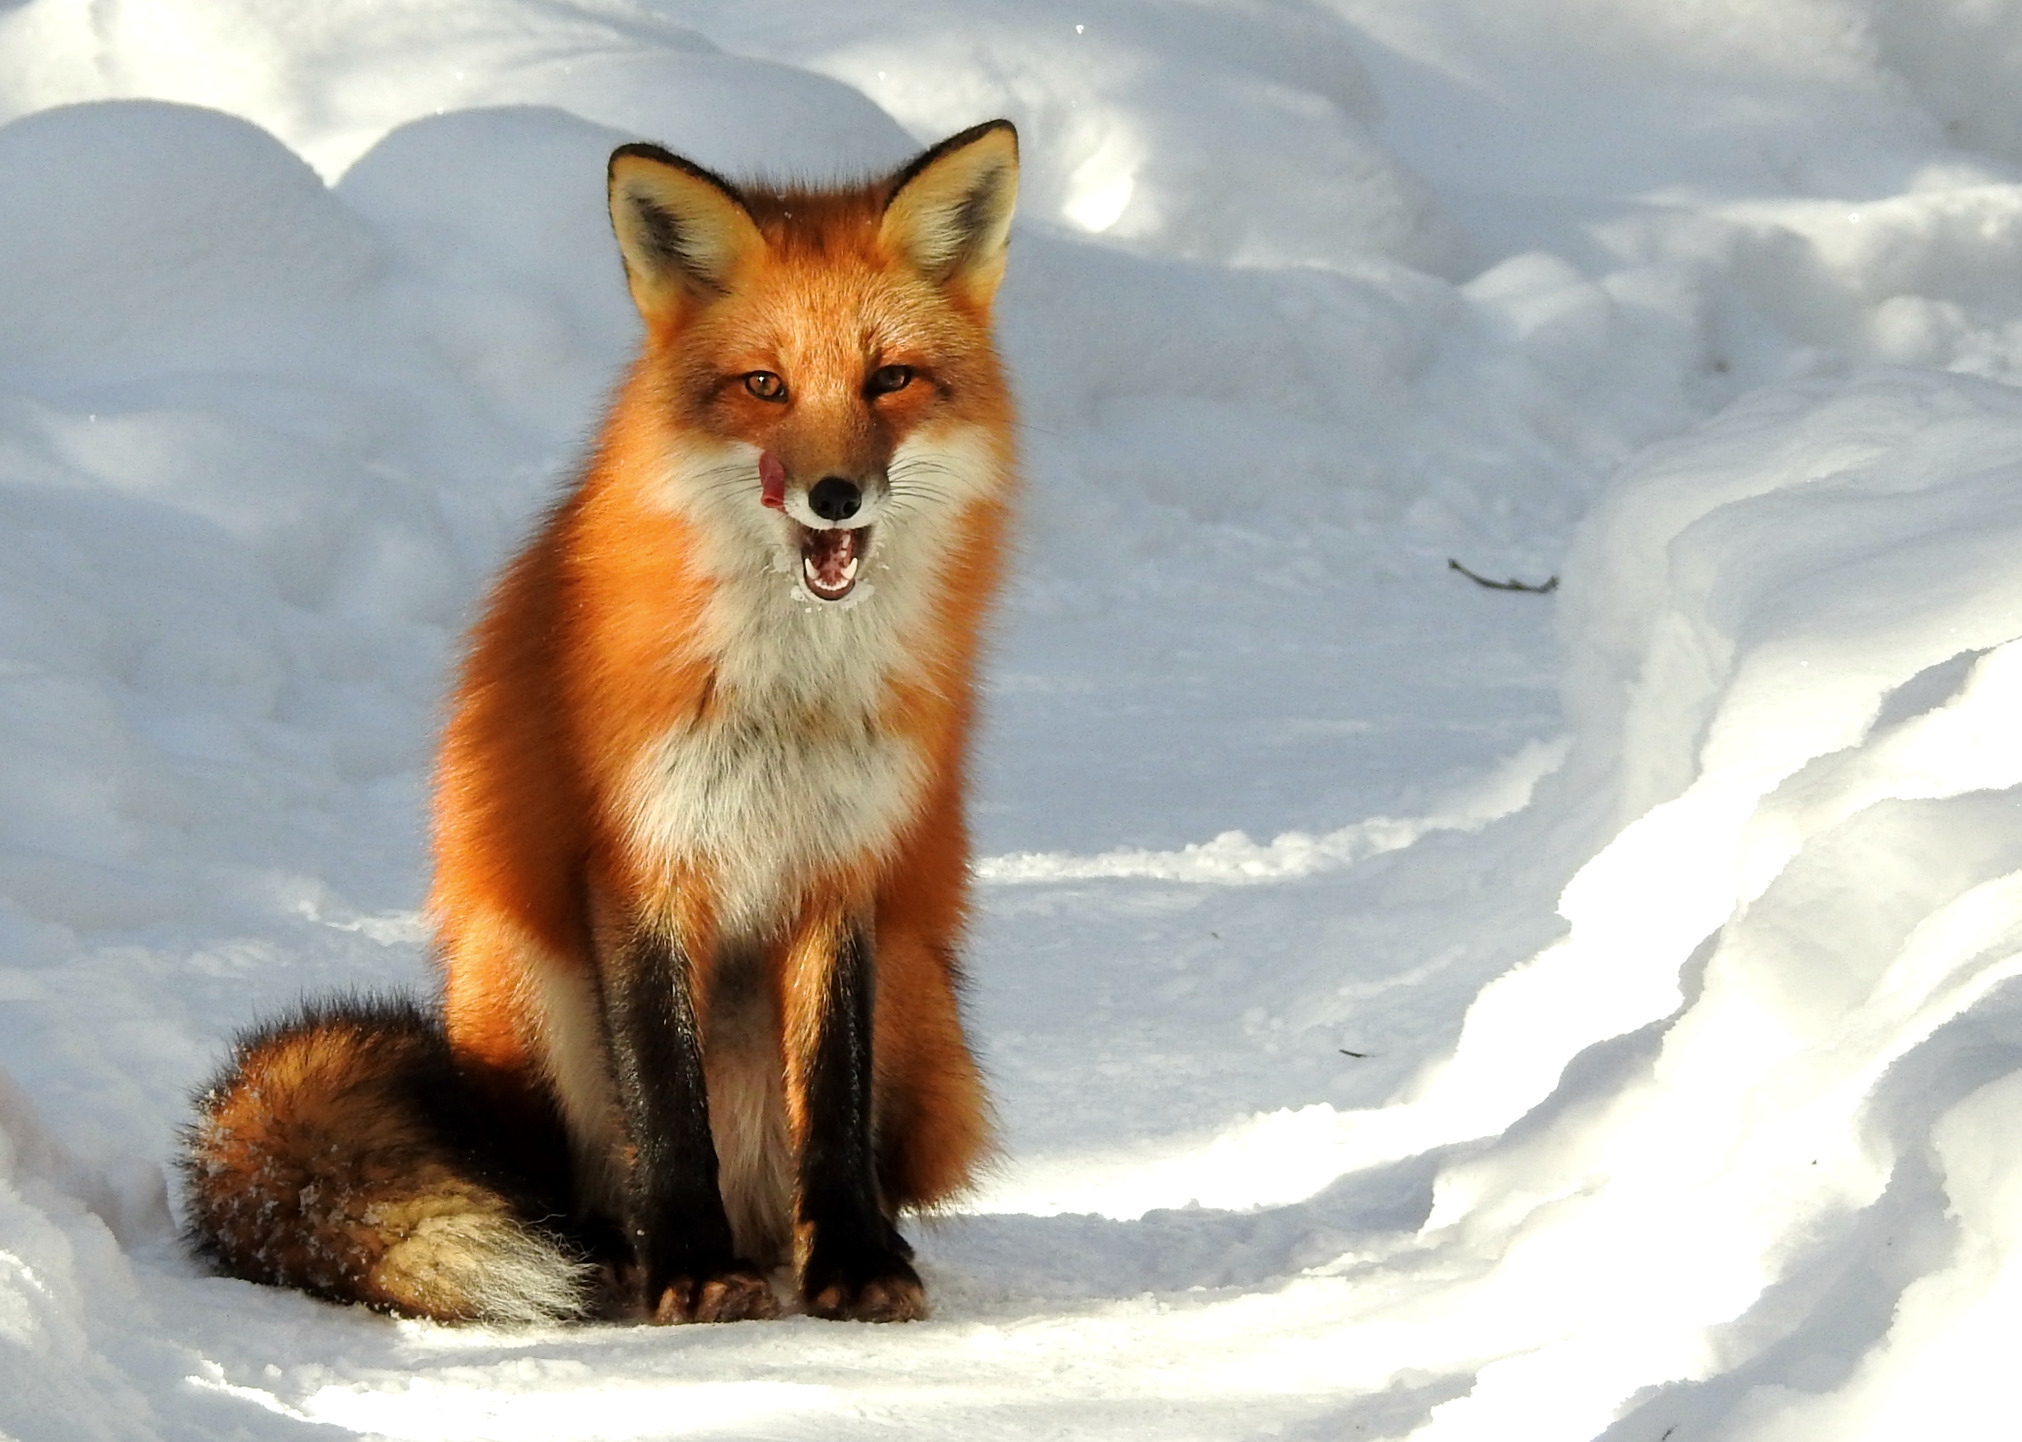fox: (176, 115, 1009, 1327)
